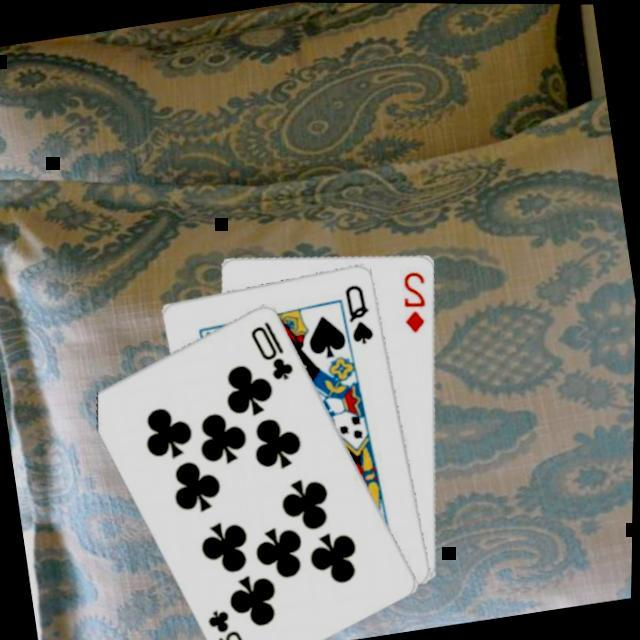10C: (244, 313, 298, 387), (202, 600, 254, 640)
2D: (393, 265, 435, 335)
QS: (339, 278, 378, 348)
